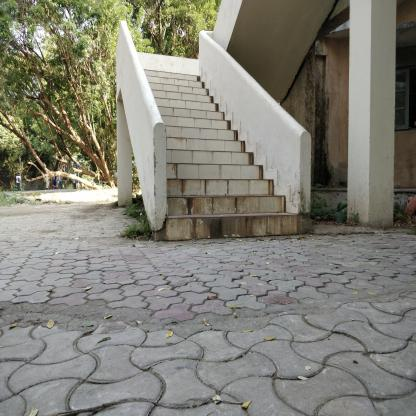stairs: (169, 71, 200, 250)
